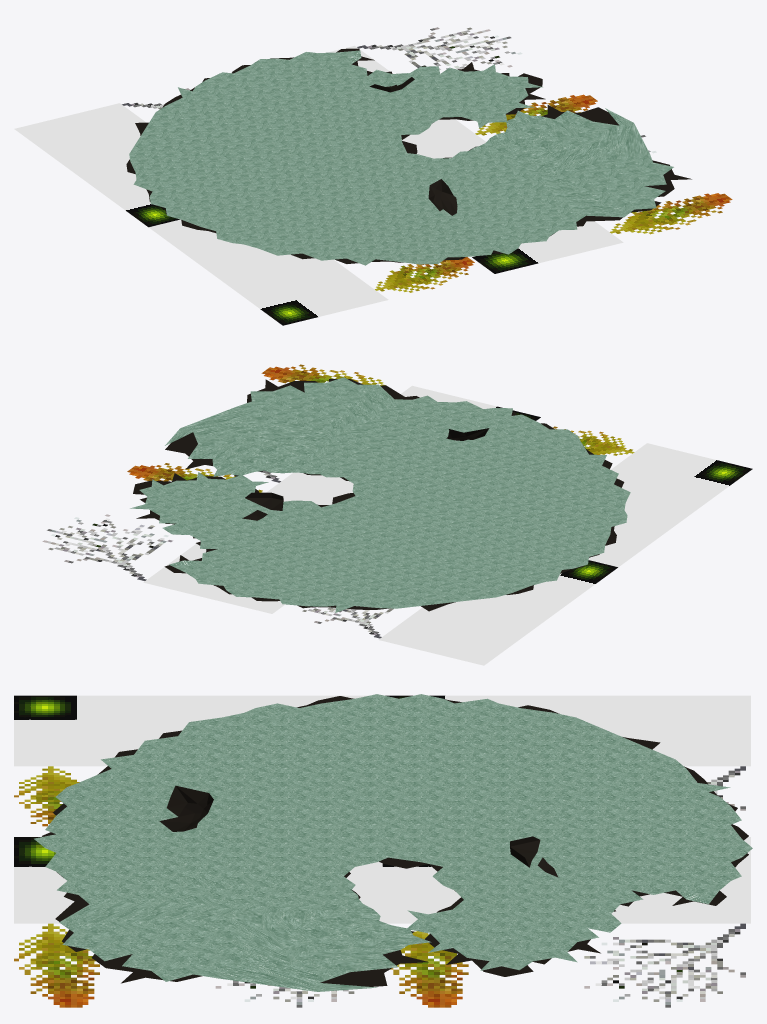
3 renders of one model, top to bottom at view 1: azimuth 30°, elevation 25°; view 2: azimuth 150°, elevation 25°; view 3: azimuth 270°, elevation 25°, orthographic. The views are drawn at different scales.
Parts seen in each view (by area): view 1: mesh00; view 2: mesh00; view 3: mesh00.
Part boxes in pixels (left/top/right/bottom): mesh00: left=14, top=27, right=732, bottom=325; mesh00: left=42, top=364, right=752, bottom=665; mesh00: left=14, top=694, right=752, bottom=1007.
Size of the model in its own units: 22200 by 1671 by 22055.
